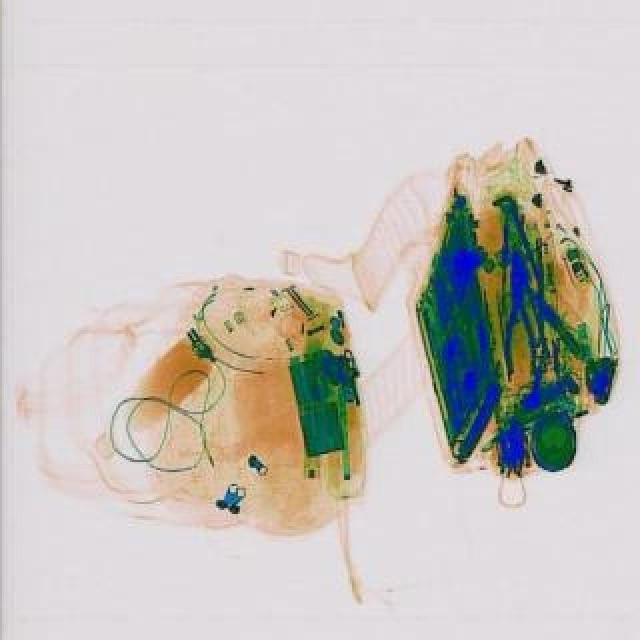wrench: (498, 250, 538, 374)
